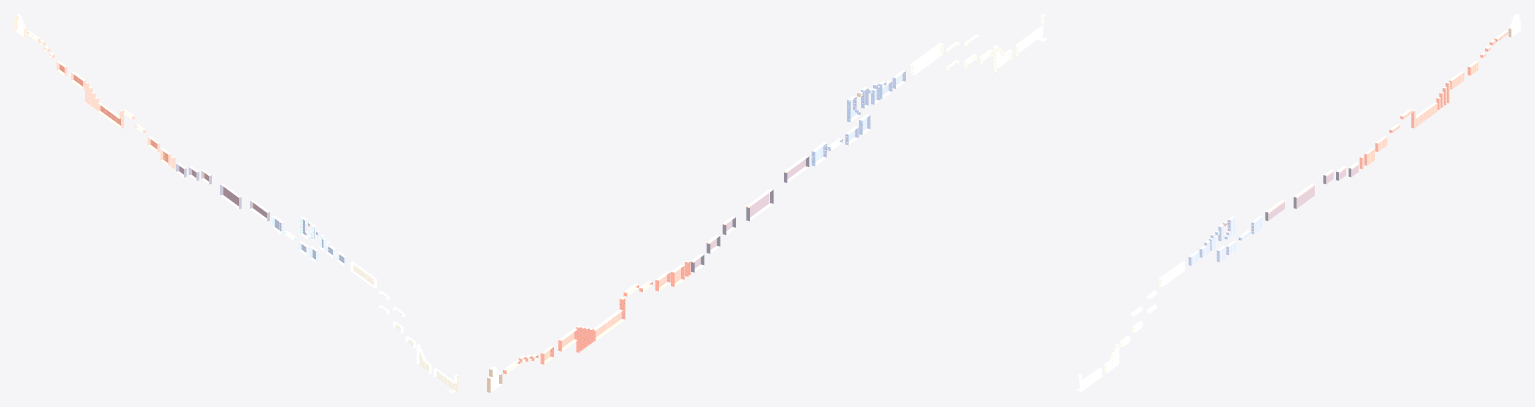
Rendered from mapmap.glb.
3 views of the same model, side by side, from view 1: azimuth 30°, elevation 25°; view 2: azimuth 150°, elevation 25°; view 3: azimuth 330°, elevation 25° (orthographic). The views are drawn at different scales.
Visible parts, largest first — view 1: Plane; view 2: Plane; view 3: Plane.
Boxes of the visible parts, x1,y1,x2,y2 form: Plane: [14, 14, 458, 392]; Plane: [487, 14, 1047, 392]; Plane: [1076, 14, 1520, 392].
Bounding box in the file's own units: 2 × 22 × 281.
